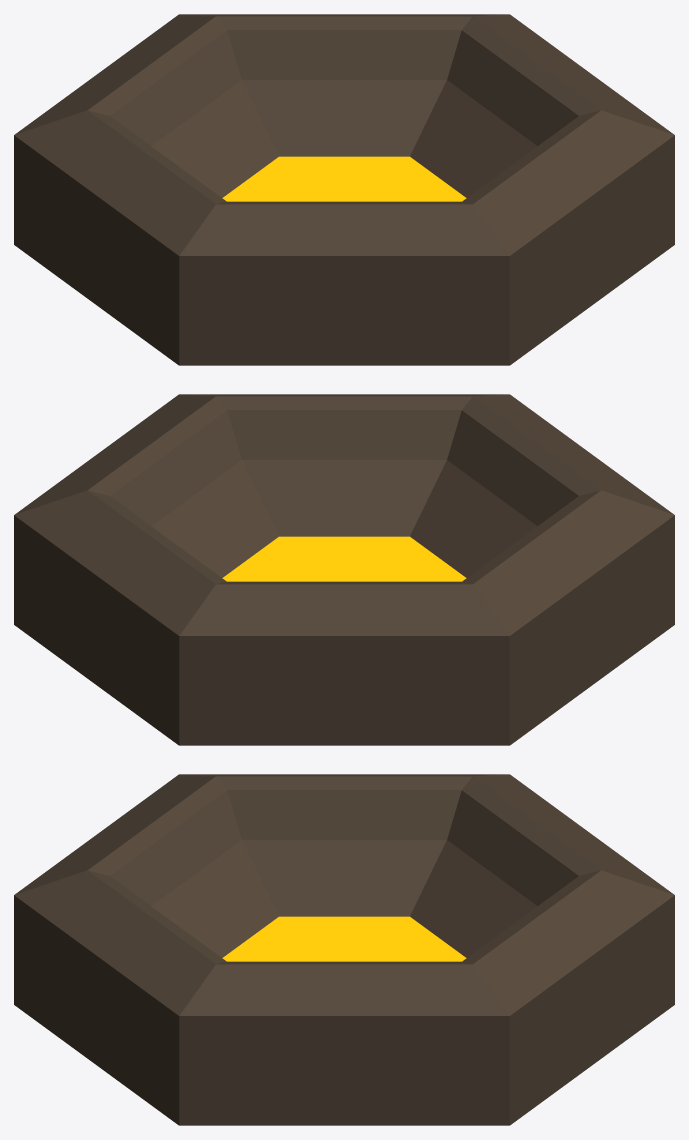
File: volcano_node.glb
The picture shows the model from 3 angles, top to bottom: view 1: azimuth 30°, elevation 25°; view 2: azimuth 150°, elevation 25°; view 3: azimuth 270°, elevation 25°; orthographic projection.
Visible parts, largest first — view 1: mesh; view 2: mesh; view 3: mesh.
Part boxes in pixels (left/top/right/bottom): mesh: left=14, top=14, right=674, bottom=365; mesh: left=14, top=394, right=674, bottom=745; mesh: left=14, top=774, right=674, bottom=1125.
Size of the model in its own units: 1.73 by 0.4492 by 2.
